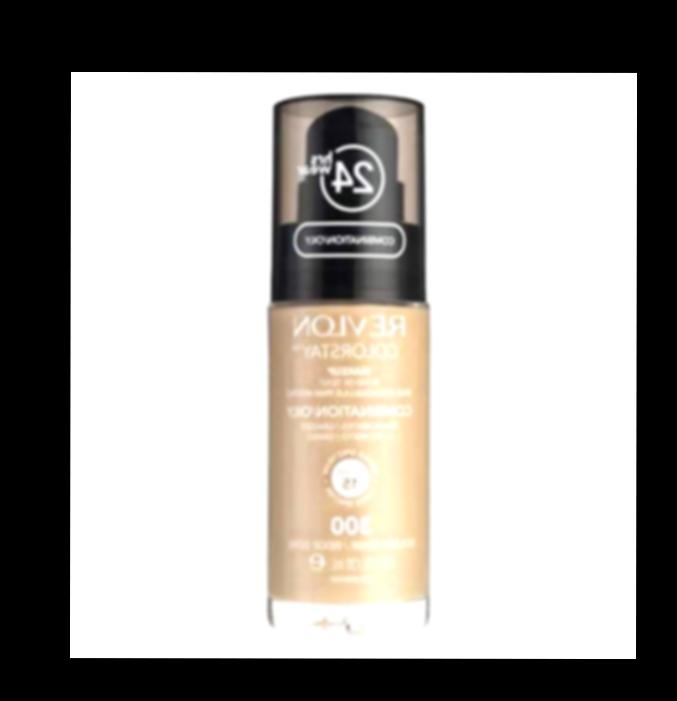cosmetic: (263, 94, 431, 626)
